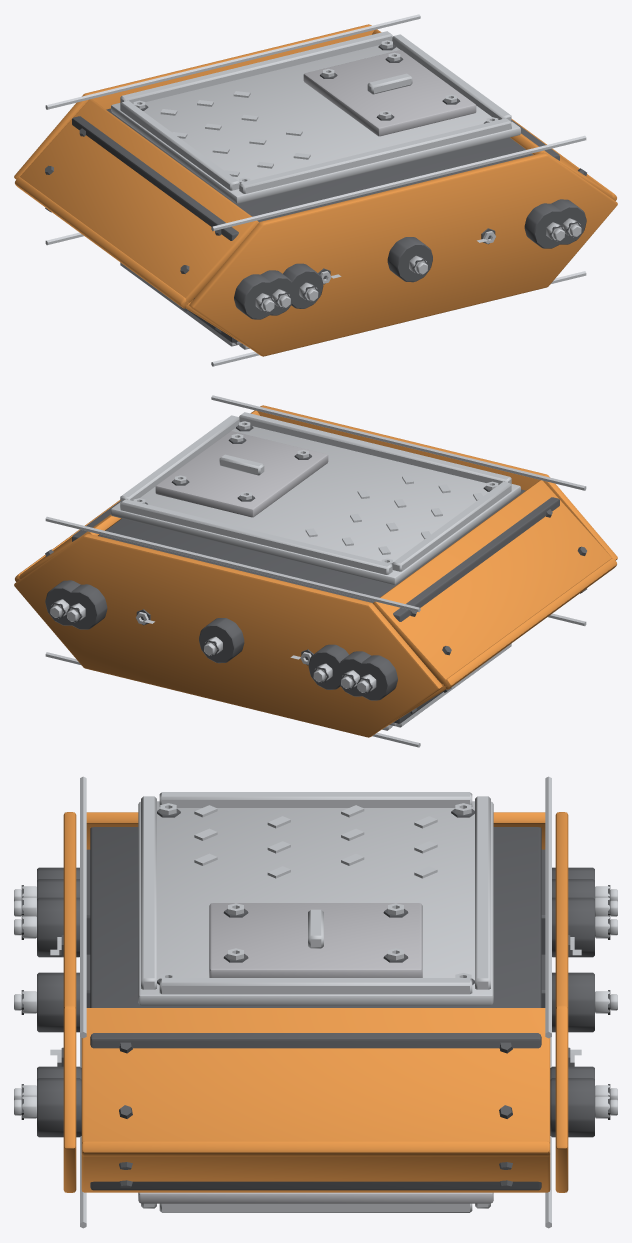
3 renders of one model, top to bottom at view 1: azimuth 30°, elevation 25°; view 2: azimuth 150°, elevation 25°; view 3: azimuth 270°, elevation 25°, orthographic. The views are drawn at different scales.
Parts seen in each view (by area): view 1: body; view 2: body; view 3: body.
Part boxes in pixels (box(x1,y1,x2,y2)): body: box(14, 14, 617, 366); body: box(14, 395, 617, 747); body: box(14, 776, 617, 1228).
Size of the model in its own units: 0.7971 by 0.324 by 0.68.
